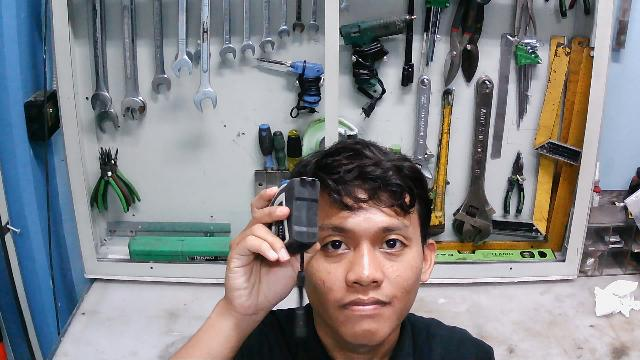meteran: (265, 172, 323, 262)
